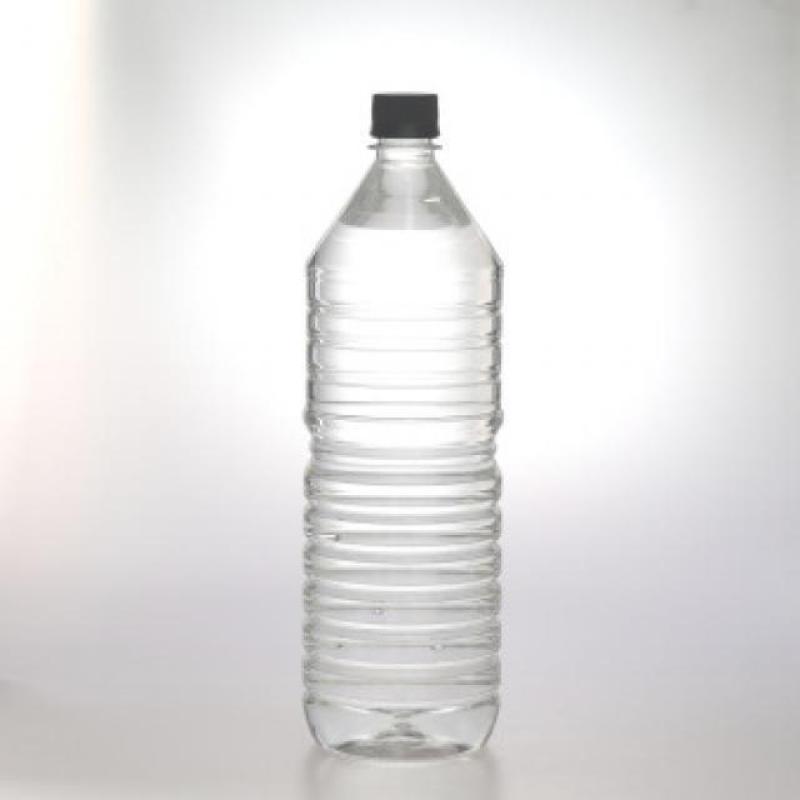botella: (304, 90, 501, 759)
